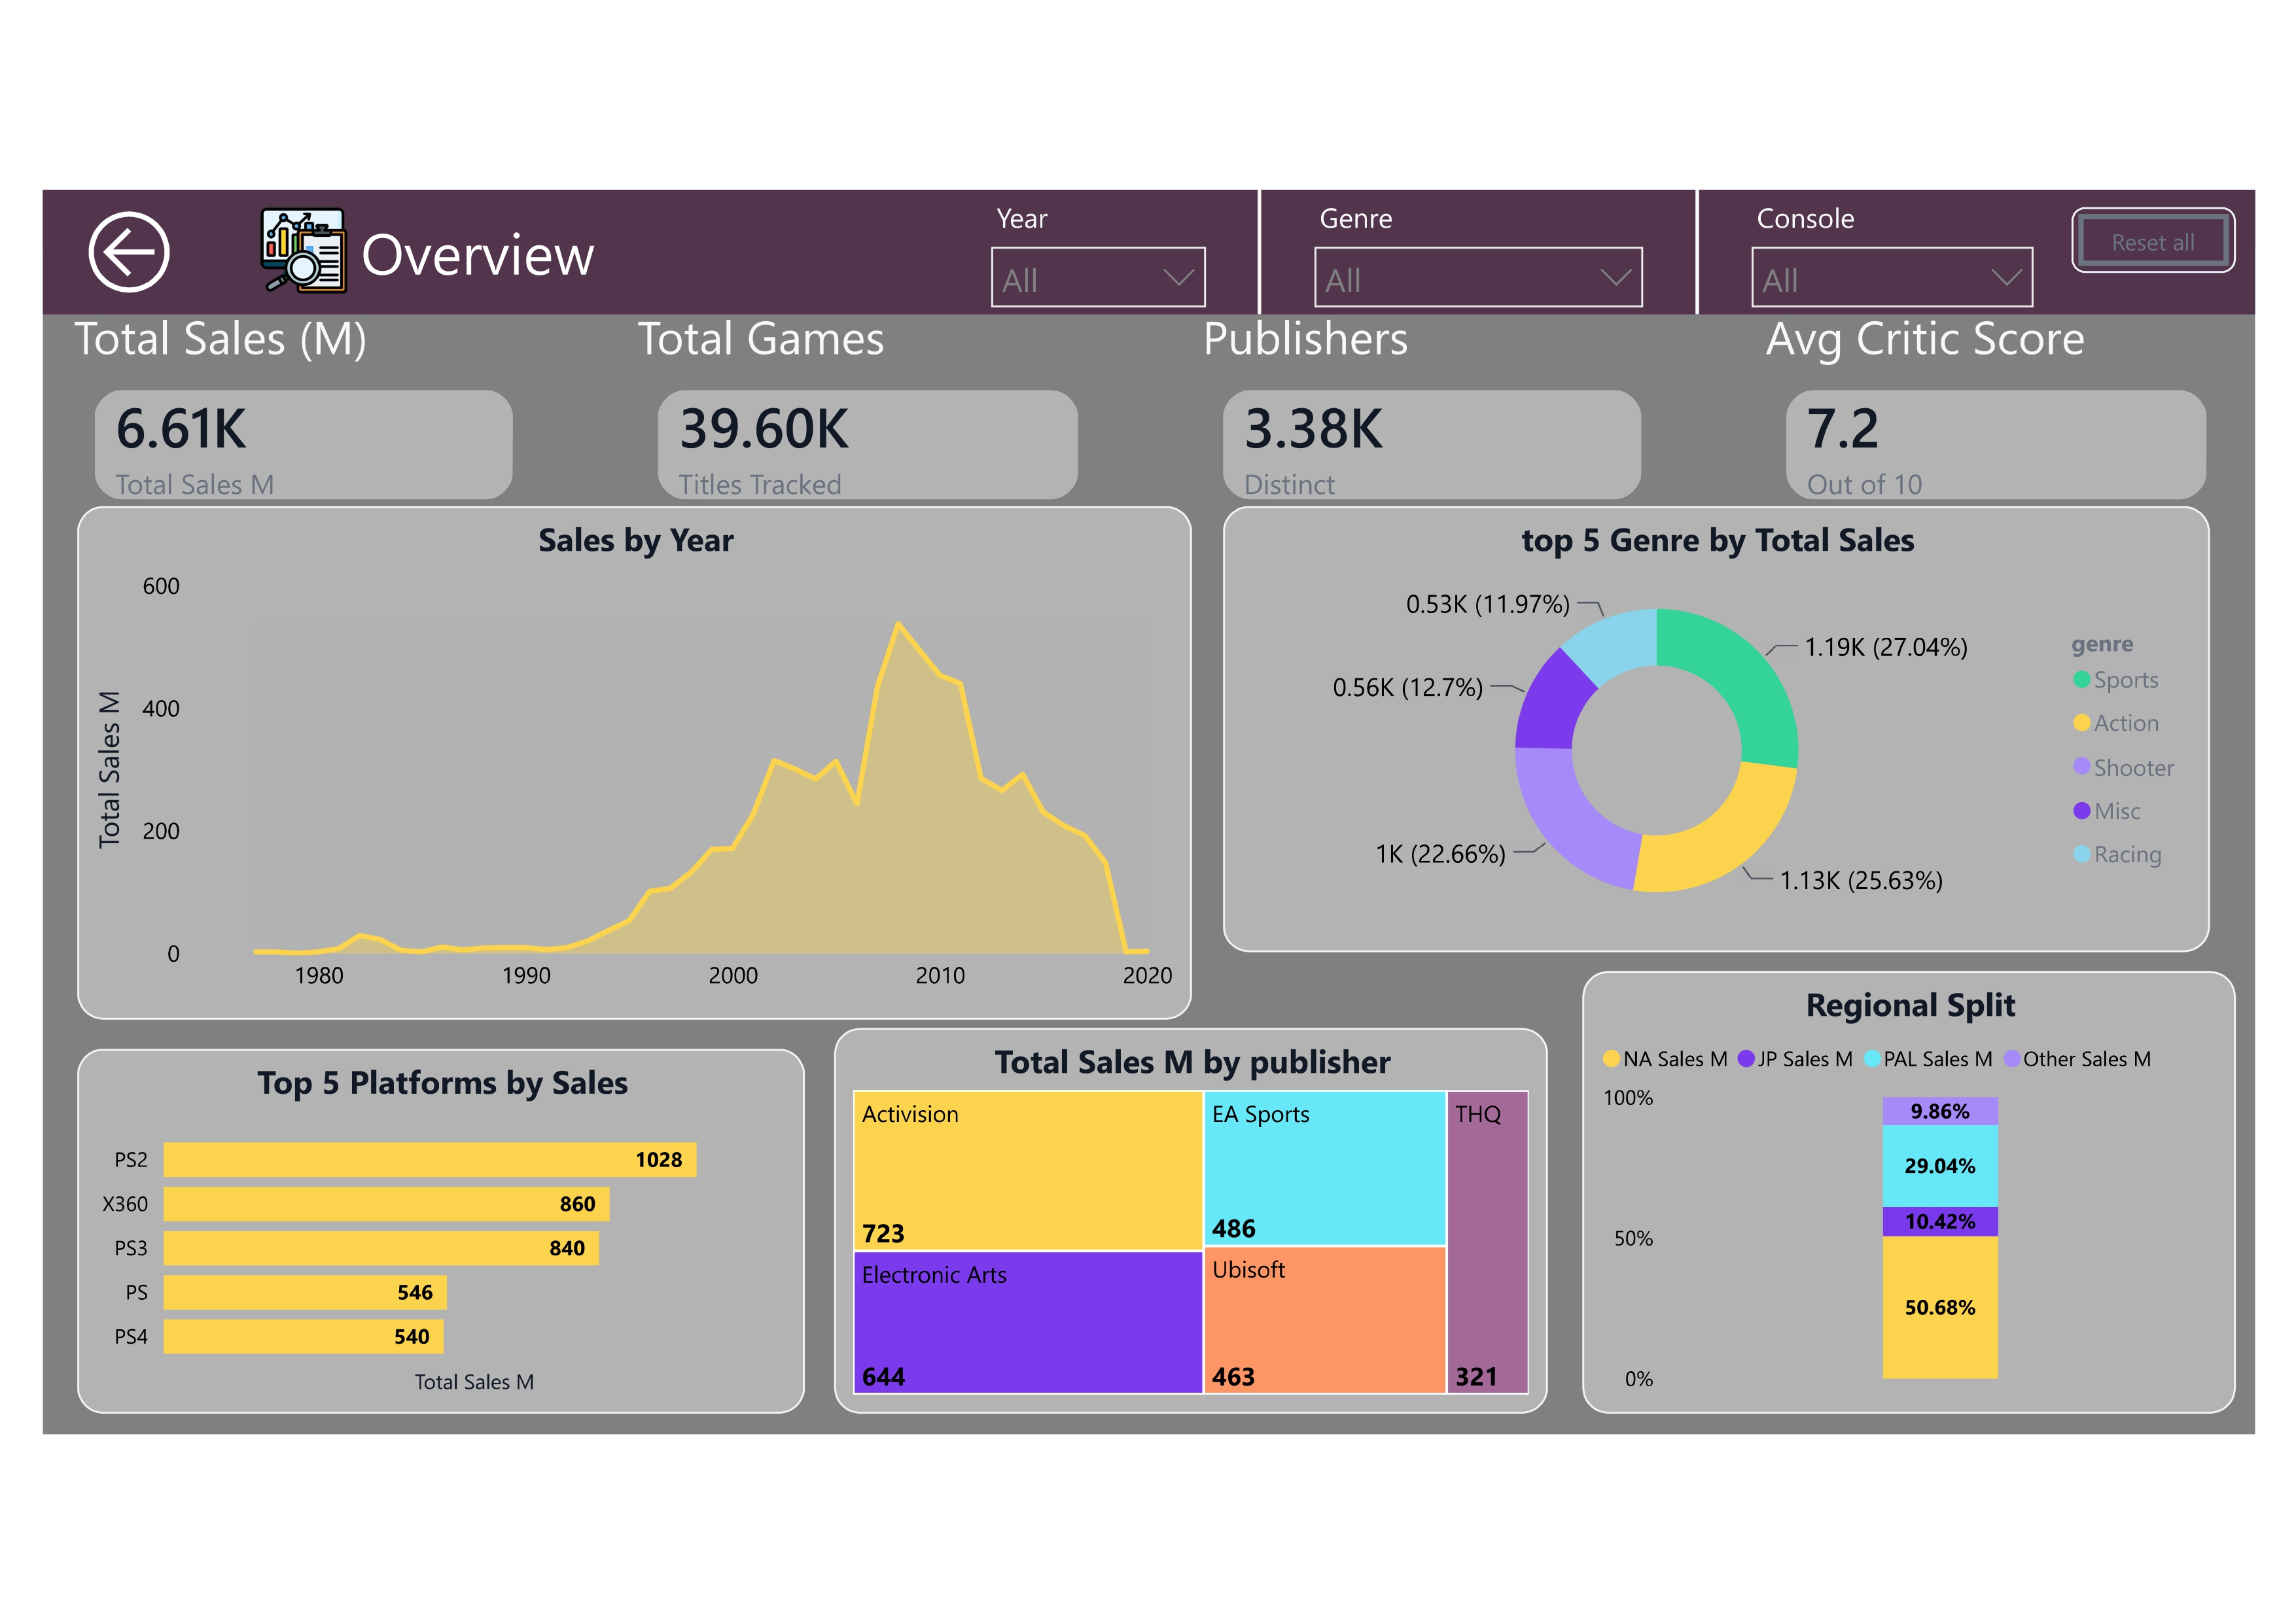

This screenshot's page, from the dashboard's own definition file:
{"tool":"powerbi","page":{"name":"Overview","canvas":[1280,720],"ordinal":1},"visuals":[{"type":"shape","box":[0,0,1280.2,72],"z":0},{"type":"image","box":[115,10.1,72,50.4],"z":1000},{"type":"shape","box":[184.3,10.1,259.2,50.4],"z":2000},{"type":"slicer","fields":{"Values":["DateTable.Year"]},"box":[538.6,0,144,72],"z":3000},{"type":"slicer","fields":{"Values":["Games.genre"]},"box":[725.8,0,210.2,72],"z":4000},{"type":"slicer","fields":{"Values":["Games.console"]},"box":[979.2,0,182.9,72],"z":5000},{"type":"shape","box":[675.4,0,57.6,72],"z":6000},{"type":"shape","box":[928.8,0,57.6,72],"z":7000},{"type":"cardVisual","title":"Total Sales (M)","fields":{"Data":["_Measure.Total Sales M"]},"box":[13,66.2,276.5,129.6],"z":8000},{"type":"cardVisual","title":"Total Games","fields":{"Data":["Count(Games.title)"]},"box":[339.4,66.2,276.5,129.6],"z":9000},{"type":"cardVisual","title":"Publishers","fields":{"Data":["Count(Games.publisher)"]},"box":[665.8,66.2,276.5,129.6],"z":10000},{"type":"cardVisual","title":"Avg Critic Score","fields":{"Data":["Avg(Games.critic_score)"]},"box":[992.2,66.2,276.5,129.6],"z":11000},{"type":"areaChart","title":"Sales by Year","fields":{"Category":["Games.Release Year"],"Y":["_Measure.Total Sales M"]},"box":[20.2,182.9,645.1,296.6],"z":12000},{"type":"donutChart","title":"top 5 Genre by Total Sales","fields":{"Category":["Games.genre"],"Y":["_Measure.Total Sales M"]},"box":[682.6,182.9,571.7,257.8],"z":13000},{"type":"barChart","title":"Top 5 Platforms by Sales","fields":{"Category":["Games.console"],"Y":["_Measure.Total Sales M"]},"box":[20.2,496.8,420.5,211.7],"z":14000},{"type":"hundredPercentStackedColumnChart","title":"Regional Split","fields":{"Y":["_Measure.NA Sales M","_Measure.JP Sales M","_Measure.PAL Sales M","_Measure.Other Sales M"]},"box":[891.4,452.2,377.3,256.3],"z":15000},{"type":"treemap","fields":{"Values":["_Measure.Total Sales M"],"Group":["Games.publisher"]},"box":[457.9,485.3,413.3,223.2],"z":16000},{"type":"actionButton","title":"Reset","box":[1173.6,10.1,95,37.4],"z":17000},{"type":"actionButton","box":[20.2,5.8,79.2,60.5],"z":18000}]}

Visuals, with their boxes on the page's 1280x720 design canvas (x1, y1, x2, y2). These are canvas units, not pixel positions in the 2296x1623 screenshot, which may show the page scaled, cropped or inside an application window:
shape: [x1=0, y1=0, x2=1280, y2=72]
image: [x1=115, y1=10, x2=187, y2=60]
shape: [x1=184, y1=10, x2=444, y2=60]
slicer - DateTable.Year: [x1=539, y1=0, x2=683, y2=72]
slicer - Games.genre: [x1=726, y1=0, x2=936, y2=72]
slicer - Games.console: [x1=979, y1=0, x2=1162, y2=72]
shape: [x1=675, y1=0, x2=733, y2=72]
shape: [x1=929, y1=0, x2=986, y2=72]
"Total Sales (M)" cardVisual: [x1=13, y1=66, x2=290, y2=196]
"Total Games" cardVisual: [x1=339, y1=66, x2=616, y2=196]
"Publishers" cardVisual: [x1=666, y1=66, x2=942, y2=196]
"Avg Critic Score" cardVisual: [x1=992, y1=66, x2=1269, y2=196]
"Sales by Year" areaChart: [x1=20, y1=183, x2=665, y2=480]
"top 5 Genre by Total Sales" donutChart: [x1=683, y1=183, x2=1254, y2=441]
"Top 5 Platforms by Sales" barChart: [x1=20, y1=497, x2=441, y2=708]
"Regional Split" hundredPercentStackedColumnChart: [x1=891, y1=452, x2=1269, y2=708]
treemap - _Measure.Total Sales M x Games.publisher: [x1=458, y1=485, x2=871, y2=708]
"Reset" actionButton: [x1=1174, y1=10, x2=1269, y2=48]
actionButton: [x1=20, y1=6, x2=99, y2=66]
